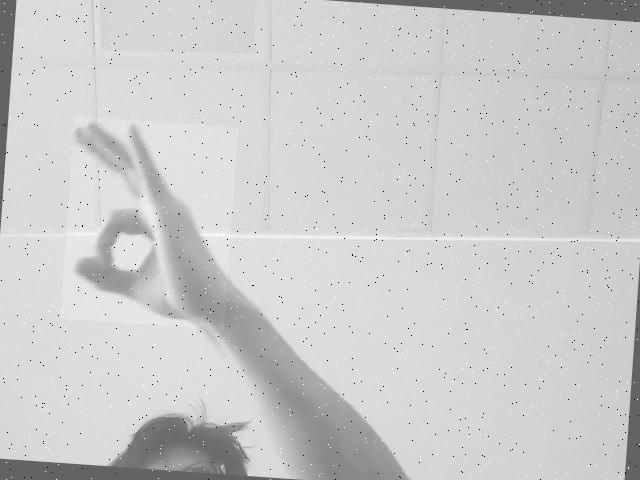OK: (69, 120, 226, 327)
